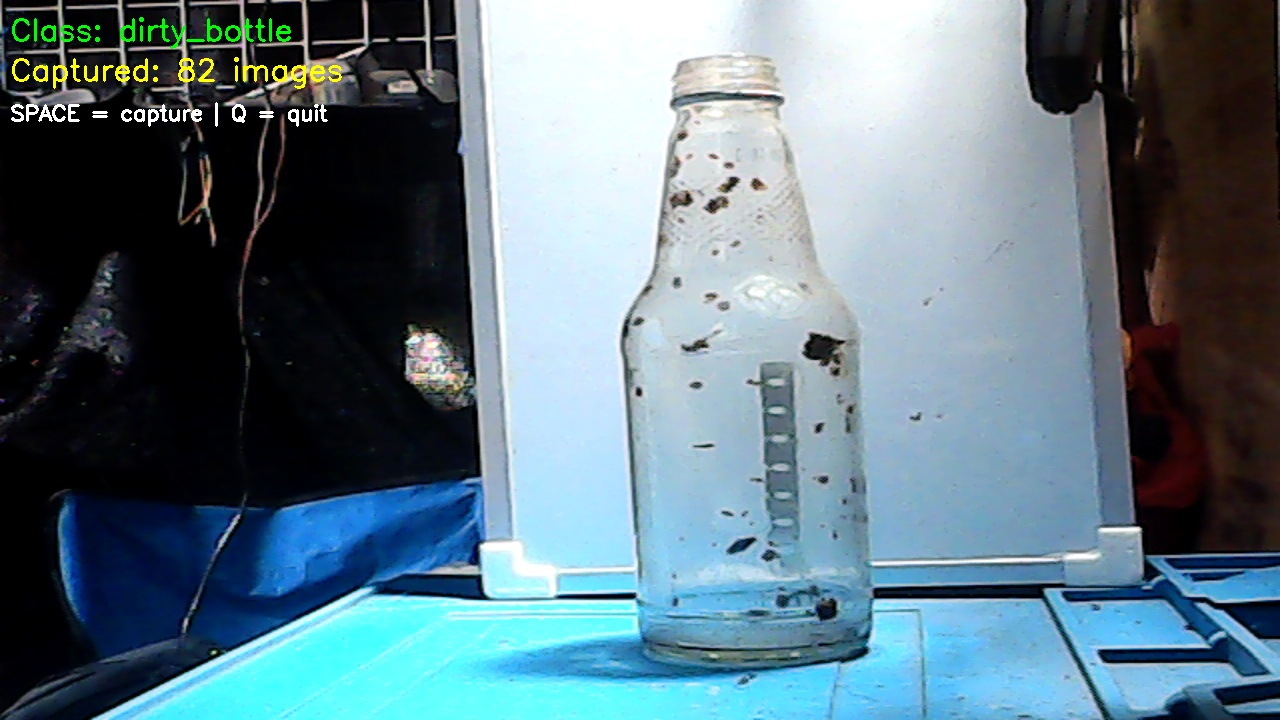dirty_bottle: (602, 50, 885, 672)
